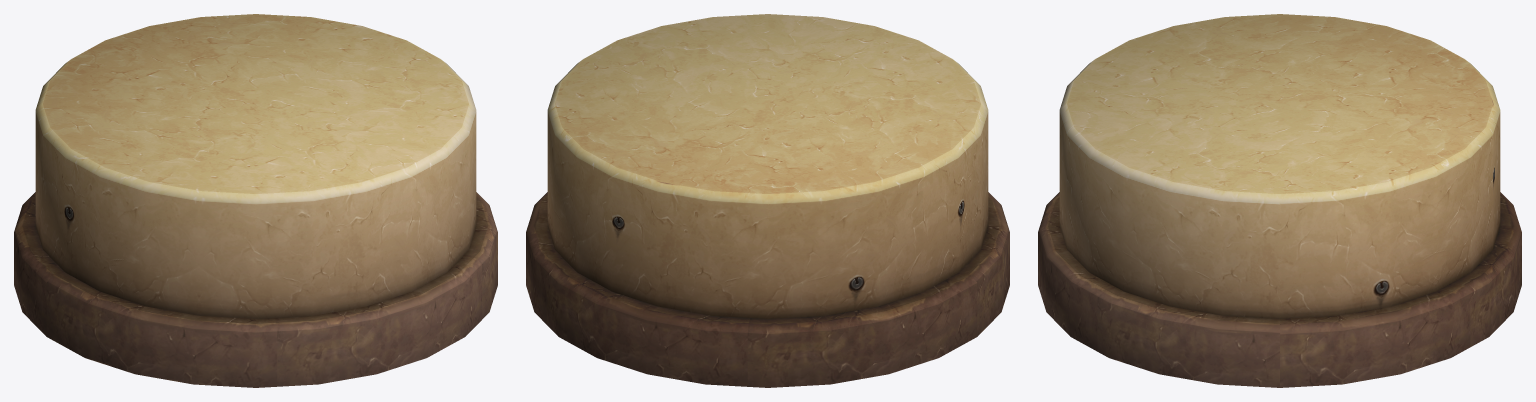
The model's file is DE_House_Mod_Part_09.fbx.
3 renders of one model, left to right at view 1: azimuth 30°, elevation 25°; view 2: azimuth 150°, elevation 25°; view 3: azimuth 270°, elevation 25°, orthographic.
Parts seen in each view (by area): view 1: DE_House_Mod_Part_09; view 2: DE_House_Mod_Part_09; view 3: DE_House_Mod_Part_09.
Boxes of the visible parts, x1,y1,x2,y2 form: DE_House_Mod_Part_09: (14, 14, 497, 387); DE_House_Mod_Part_09: (526, 14, 1009, 387); DE_House_Mod_Part_09: (1038, 14, 1521, 387).
Size of the model in its own units: 8.92 by 3.74 by 8.92.
